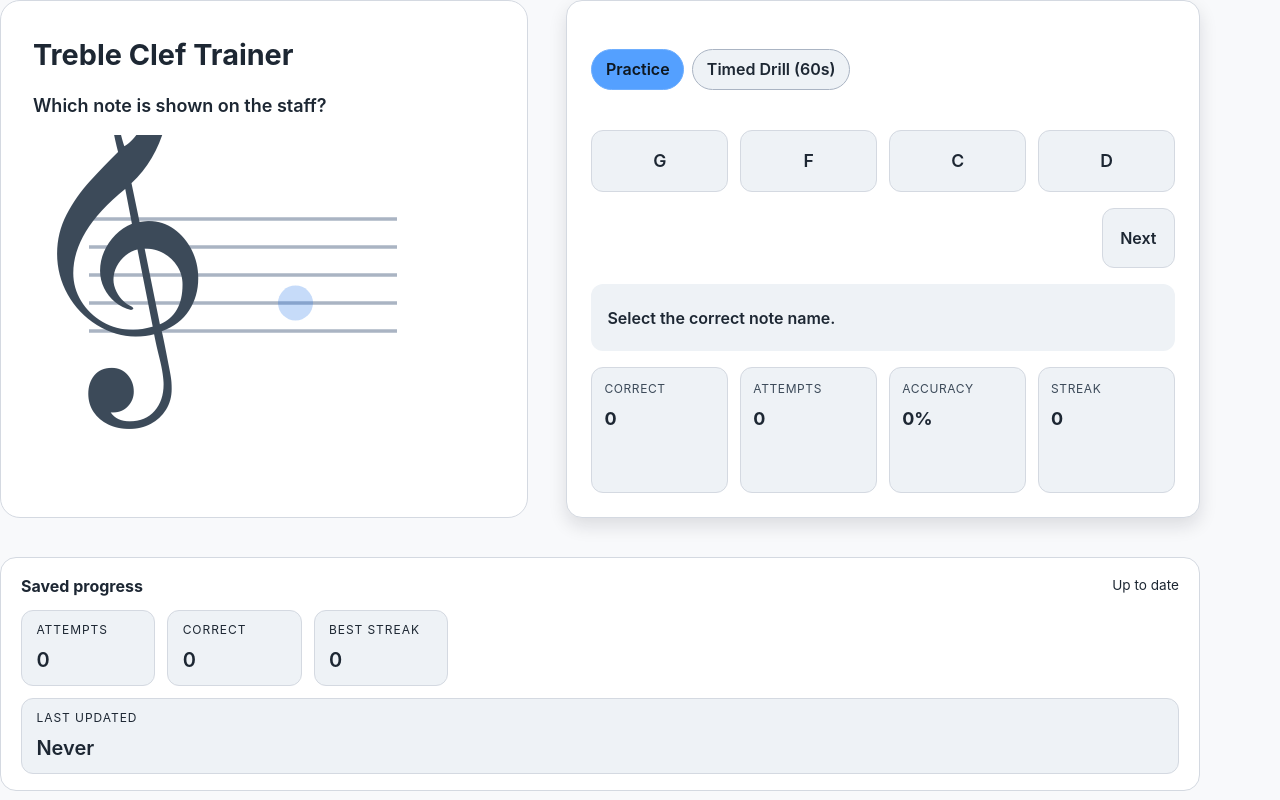
Test: TrebleTrainer › accepts a correct answer from the choices
Click the button "G". click: (660, 161)
box: [591,130,728,192]
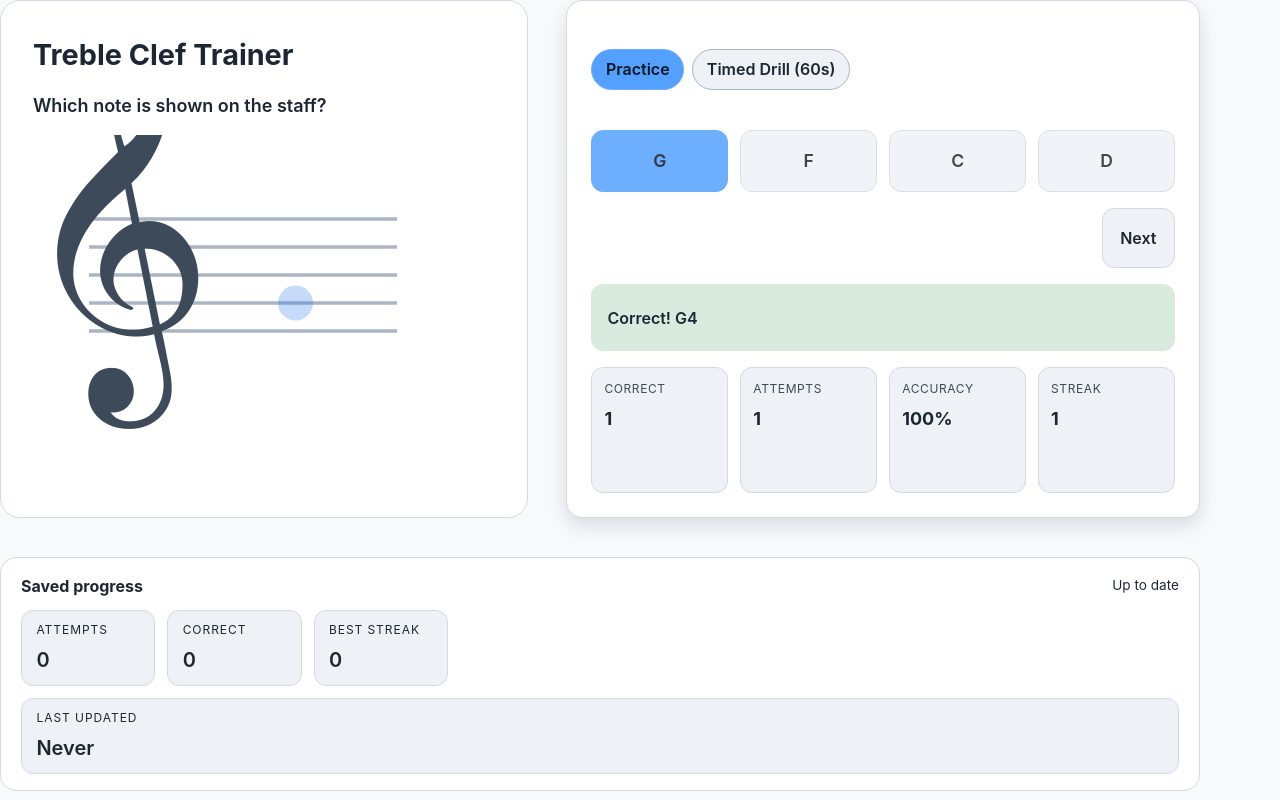
Check: the text "Correct! G4" is shown, box [591,284,1175,351]
